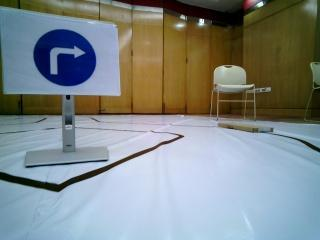right: (4, 15, 115, 97)
